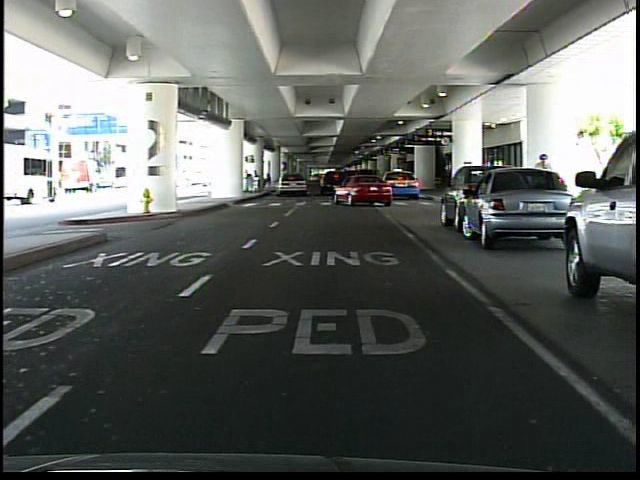person: (532, 150, 559, 236)
